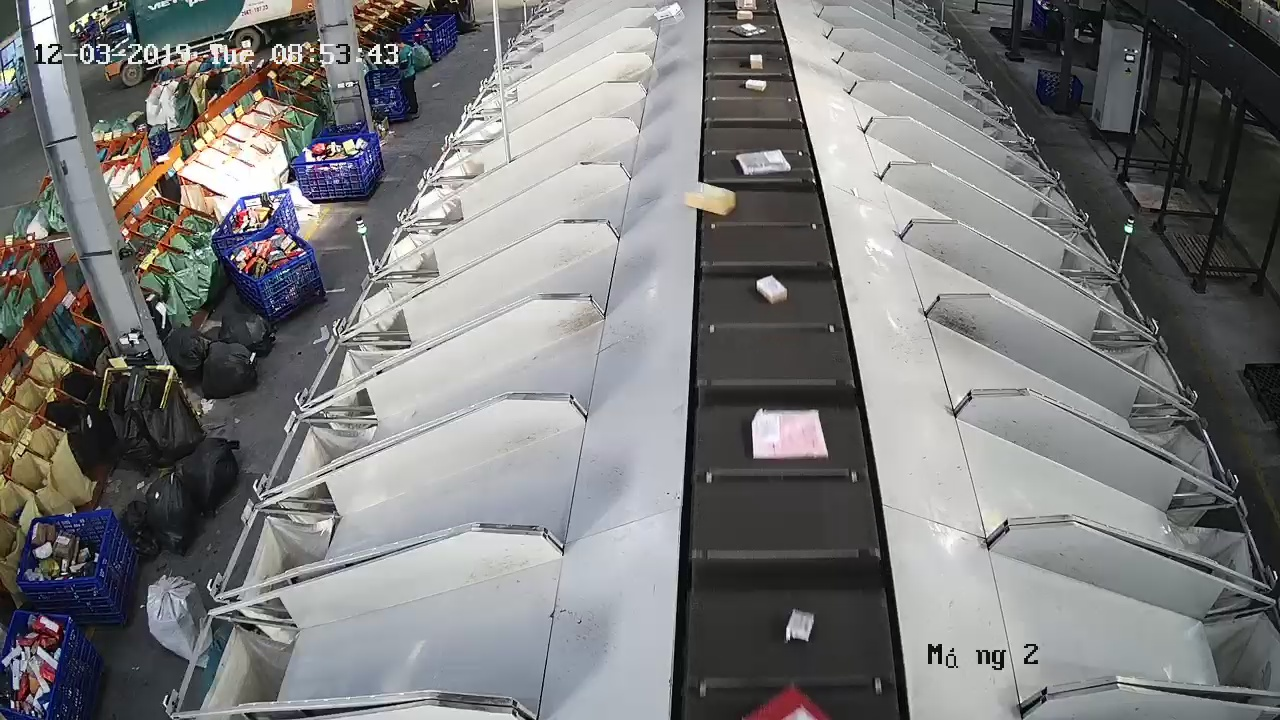parcel: (749, 405, 831, 462), (682, 180, 738, 217), (734, 147, 793, 177), (782, 606, 817, 645), (755, 272, 789, 307)
